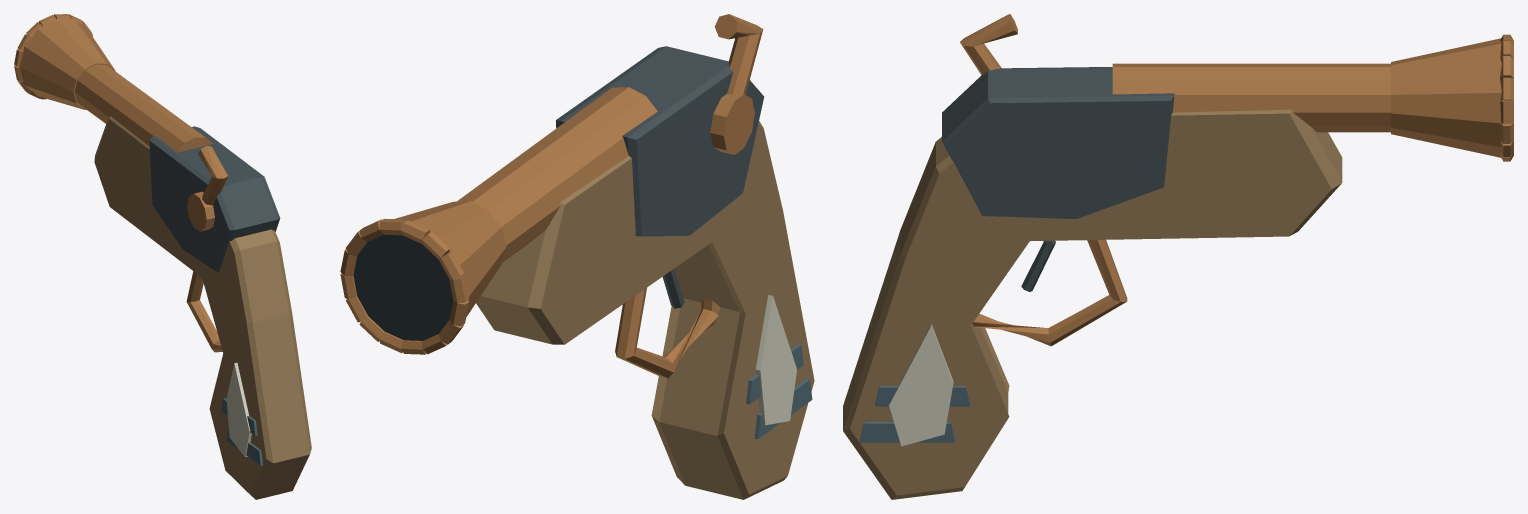
The model's file is SWW_SaltmistHandgun.fbx.
The picture shows the model from 3 angles, left to right: view 1: azimuth 30°, elevation 25°; view 2: azimuth 150°, elevation 25°; view 3: azimuth 270°, elevation 25°; orthographic projection. The views are drawn at different scales.
Parts seen in each view (by area): view 1: SWW_SaltmistHandgun; view 2: SWW_SaltmistHandgun; view 3: SWW_SaltmistHandgun.
Boxes of the visible parts, <box> form: SWW_SaltmistHandgun: <box>14,14,311,499</box>; SWW_SaltmistHandgun: <box>340,14,814,499</box>; SWW_SaltmistHandgun: <box>843,14,1513,499</box>.
Size of the model in its own units: 0.1436 by 0.5687 by 0.759.
